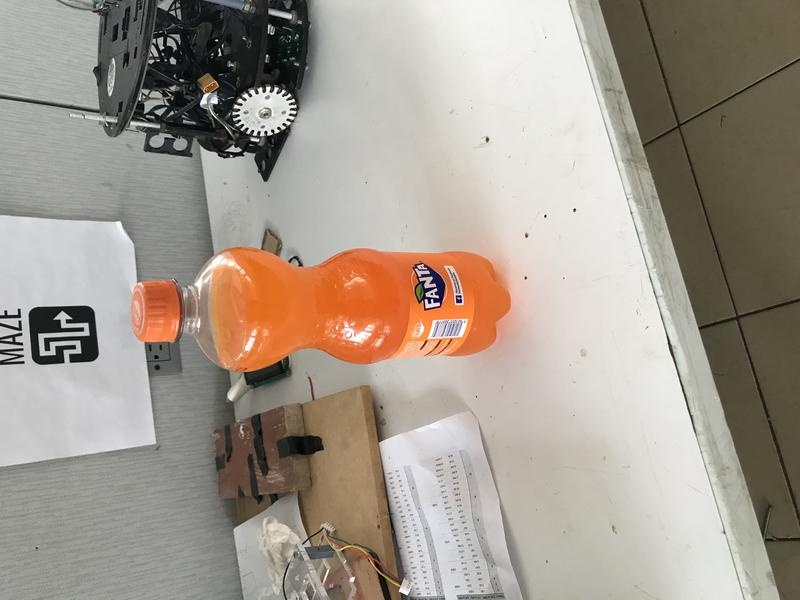fanta: (129, 248, 512, 374)
